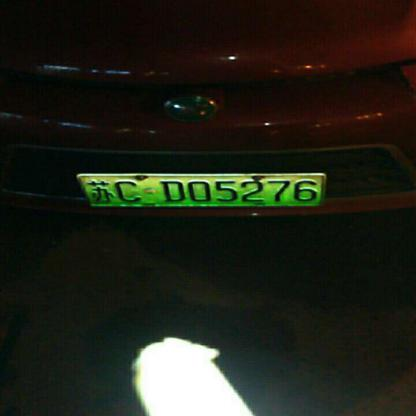lp: (79, 174, 320, 206)
